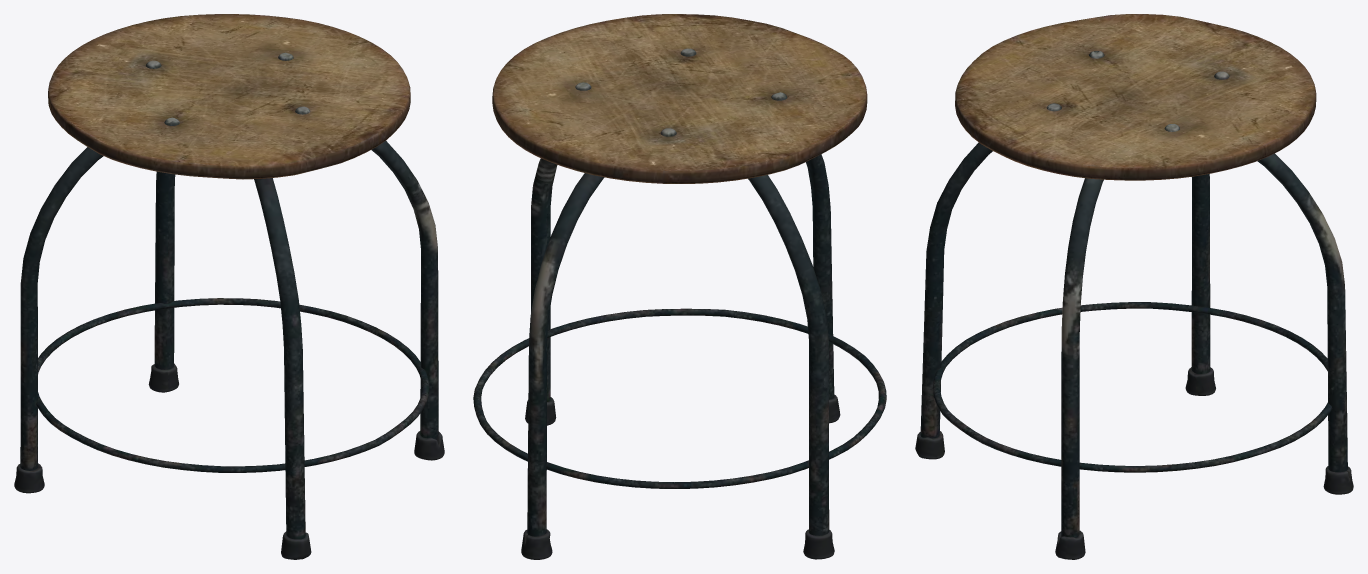
Rendered from metal_stool_02.glb.
The picture shows the model from 3 angles, left to right: view 1: azimuth 30°, elevation 25°; view 2: azimuth 150°, elevation 25°; view 3: azimuth 270°, elevation 25°; orthographic projection. The views are drawn at different scales.
Visible parts, largest first — view 1: metal_stool_02; view 2: metal_stool_02; view 3: metal_stool_02.
Part boxes in pixels (x1,y1,x2,y2): metal_stool_02: (14, 14, 444, 559); metal_stool_02: (473, 14, 886, 559); metal_stool_02: (915, 14, 1353, 559).
Bounding box in the file's own units: 0.4481 × 0.4581 × 0.4731.
Materials: 1 (1 with a texture image).
